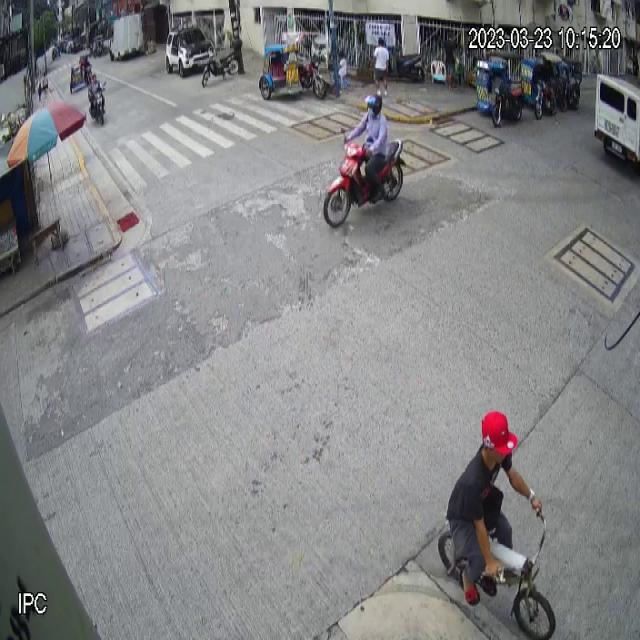Motorcycle: (322, 128, 410, 231)
Tricycle: (260, 30, 327, 100), (476, 52, 524, 128)
Van: (595, 70, 640, 176)
